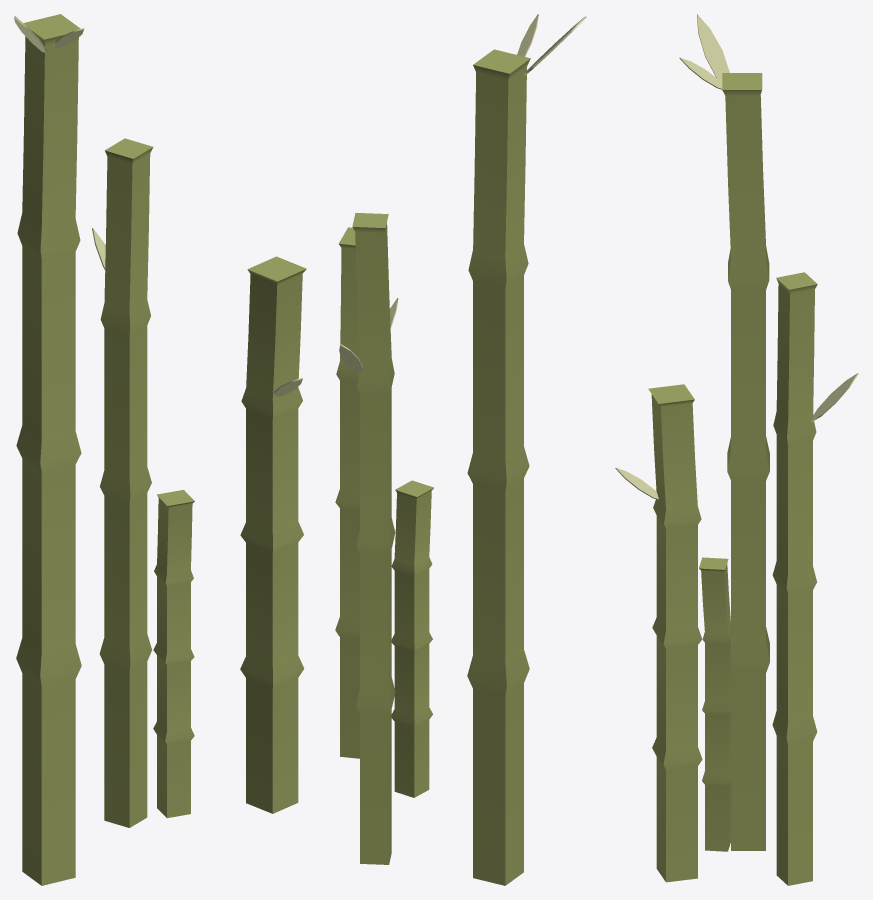
Rendered from bambou.fbx.
3 views of the same model, side by side, from view 1: azimuth 30°, elevation 25°; view 2: azimuth 150°, elevation 25°; view 3: azimuth 270°, elevation 25° (orthographic). The views are drawn at different scales.
Parts seen in each view (by area): view 1: pCube166; view 2: pCube166; view 3: pCube166.
Part boxes in pixels (box(x1,y1,x2,y2)): pCube166: box(14, 14, 306, 885); pCube166: box(335, 14, 586, 885); pCube166: box(615, 14, 858, 885).
Bounding box in the file's own units: 0.6619 × 2.08 × 0.5738.
